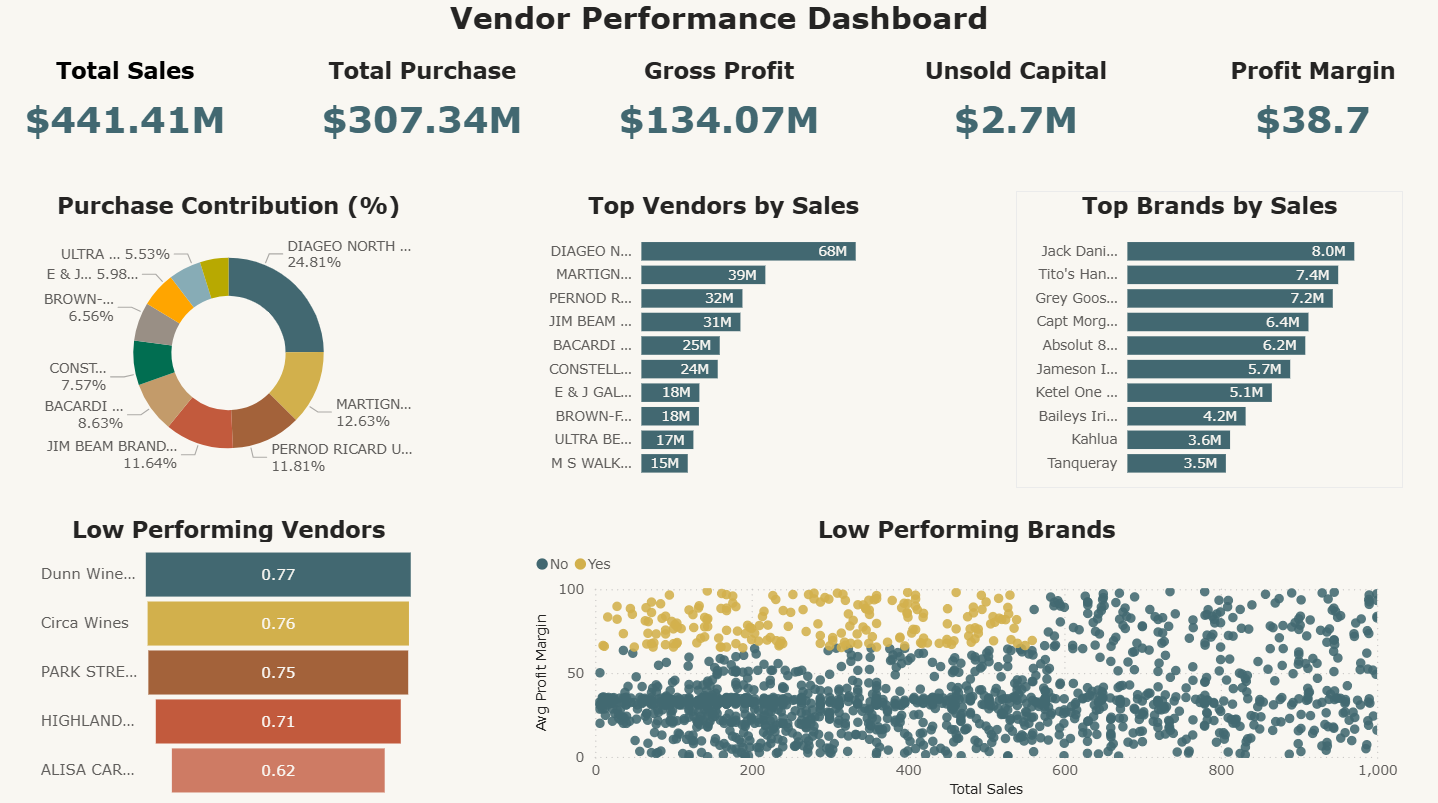

The page's visual inventory and layout, read from the dashboard file:
{"tool":"powerbi","page":{"name":"Page 1","canvas":[1280,720],"ordinal":0},"visuals":[{"type":"card","title":"Total Sales","fields":{"Values":["vendor_sales_summary.TotalSalesDollars"]},"box":[0,56,224,88],"z":0},{"type":"card","title":"Total Purchase","fields":{"Values":["vendor_sales_summary.TotalPurchaseDollars"]},"box":[264,56,224,88],"z":1000},{"type":"card","title":"Gross Profit","fields":{"Values":["vendor_sales_summary.GrossProfit"]},"box":[528,56,224,88],"z":2000},{"type":"card","title":"Profit Margin","fields":{"Values":["vendor_sales_summary.ProfitMargin"]},"box":[1056,56,224,88],"z":3000},{"type":"donutChart","title":"Purchase Contribution (%)","fields":{"Category":["PurchaseContribution.VendorName"],"Y":["PurchaseContribution.TotalPurchaseDollars"]},"box":[32,176,344,264],"z":4000},{"type":"barChart","title":"Top Vendors by Sales","fields":{"Category":["vendor_sales_summary.VendorName"],"Y":["vendor_sales_summary.TotalSalesDollars"]},"box":[472,176,344,264],"z":5000},{"type":"barChart","title":"Top Brands by Sales","fields":{"Category":["vendor_sales_summary.Description"],"Y":["vendor_sales_summary.TotalSalesDollars"]},"box":[904,176,344,264],"z":6000},{"type":"card","title":"Unsold Capital","fields":{"Values":["vendor_sales_summary.UnsoldCapital"]},"box":[792,56,224,88],"z":7000},{"type":"funnel","title":"Low Performing Vendors","fields":{"Category":["LowTurnoverVendor.VendorName"],"Y":["LowTurnoverVendor.AvgStockTurnover"]},"box":[32,464,344,256],"z":8000},{"type":"scatterChart","title":"Low Performing Brands","fields":{"Category":["BrandPerformance.Description"],"X":["BrandPerformance.TotalSales"],"Y":["BrandPerformance.AvgProfitMargin"],"Series":["BrandPerformance.TargetBrand"]},"box":[472,464,776,256],"z":9000},{"type":"textbox","box":[0,0,1280,48],"z":10000}]}

Visuals, with their boxes in screenshot pixels (x1, y1, x2, y2), scaled from the page's 1280x720 canvas onto the 1438x803 screenshot:
"Total Sales" card: [x1=0, y1=62, x2=252, y2=161]
"Total Purchase" card: [x1=297, y1=62, x2=548, y2=161]
"Gross Profit" card: [x1=593, y1=62, x2=845, y2=161]
"Profit Margin" card: [x1=1186, y1=62, x2=1437, y2=161]
"Purchase Contribution (%)" donutChart: [x1=36, y1=196, x2=422, y2=491]
"Top Vendors by Sales" barChart: [x1=530, y1=196, x2=917, y2=491]
"Top Brands by Sales" barChart: [x1=1016, y1=196, x2=1402, y2=491]
"Unsold Capital" card: [x1=890, y1=62, x2=1141, y2=161]
"Low Performing Vendors" funnel: [x1=36, y1=517, x2=422, y2=802]
"Low Performing Brands" scatterChart: [x1=530, y1=517, x2=1402, y2=802]
textbox: [x1=0, y1=0, x2=1437, y2=54]
